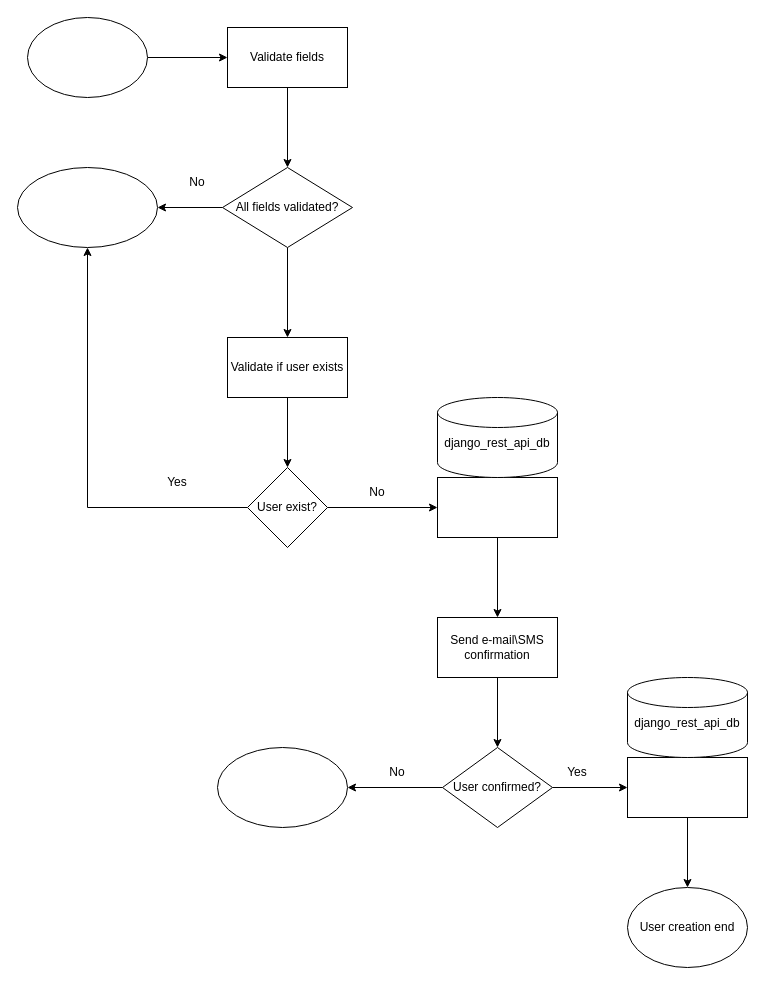
Image size: 765x985. Some labels were removed from this diagram. The centre of each missing label's shape, as x and y in pixels:
"Activate user" belongs at (x=687, y=787).
"Create user" belongs at (x=497, y=507).
"Reject user activation" belongs at (x=282, y=787).
"Reject user creation" belongs at (x=87, y=207).
"User registration" belongs at (x=87, y=57).
